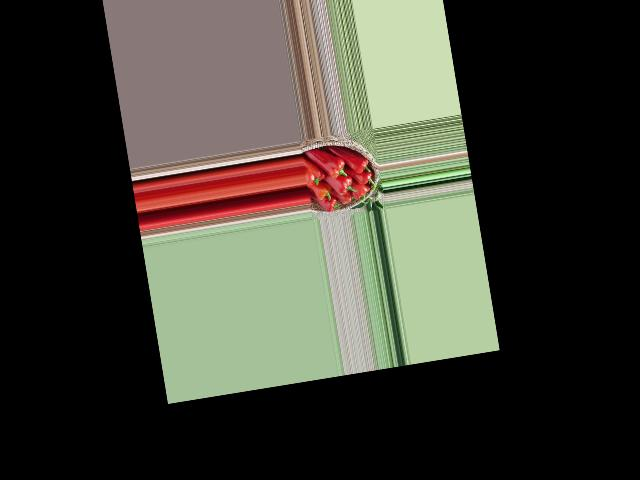bell_pepper: (353, 168, 377, 188)
